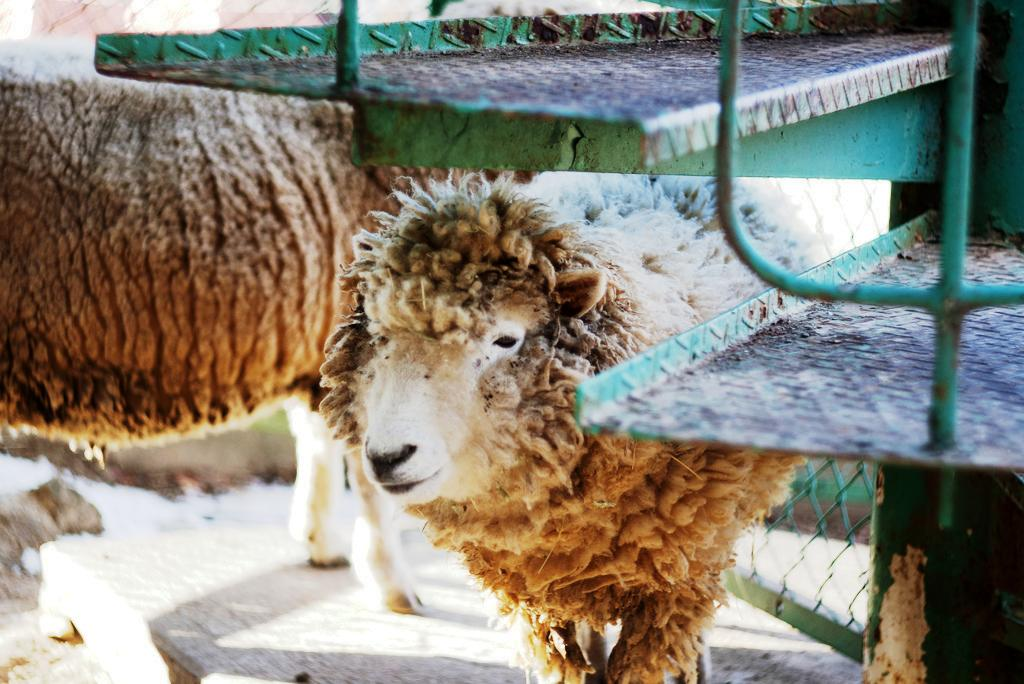Sheep: (320, 169, 824, 684), (0, 40, 425, 615)
